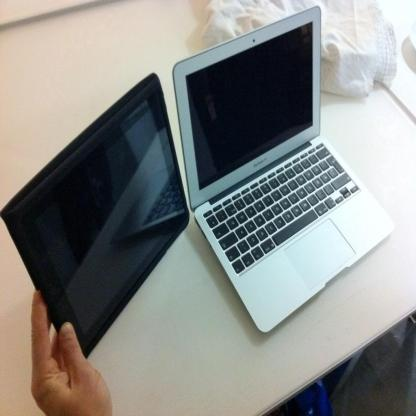board: (172, 4, 395, 332)
